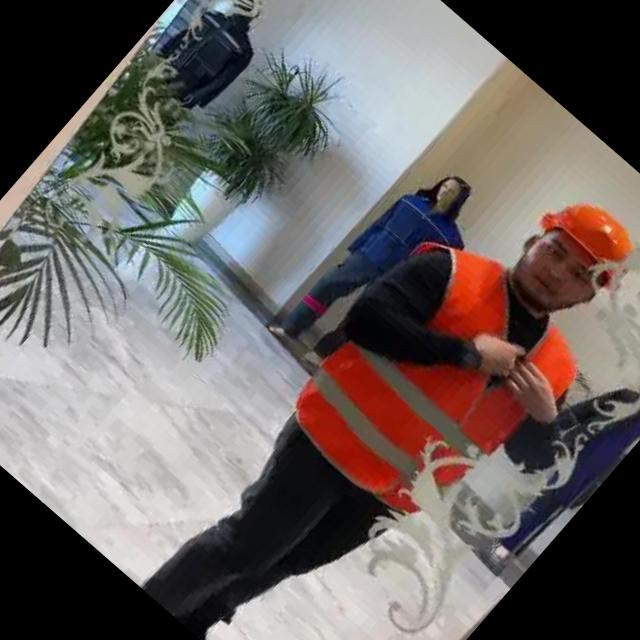hard_hat: (536, 180, 640, 291)
safety_vest: (268, 210, 606, 554)
